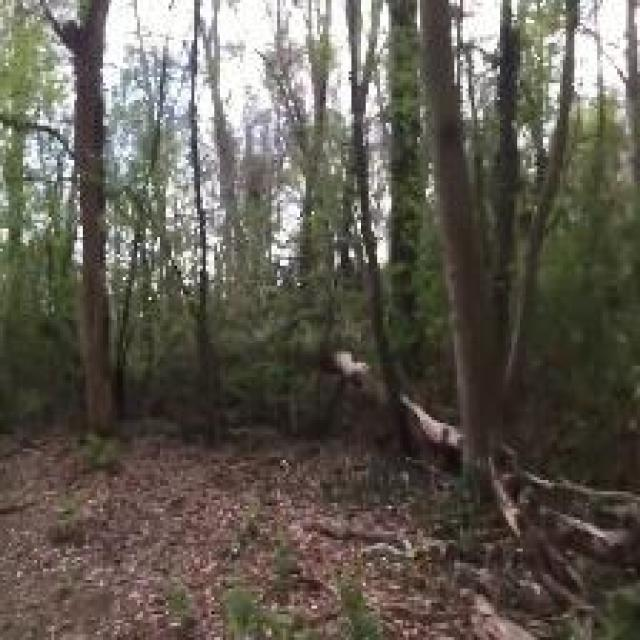other: (316, 335, 461, 448)
